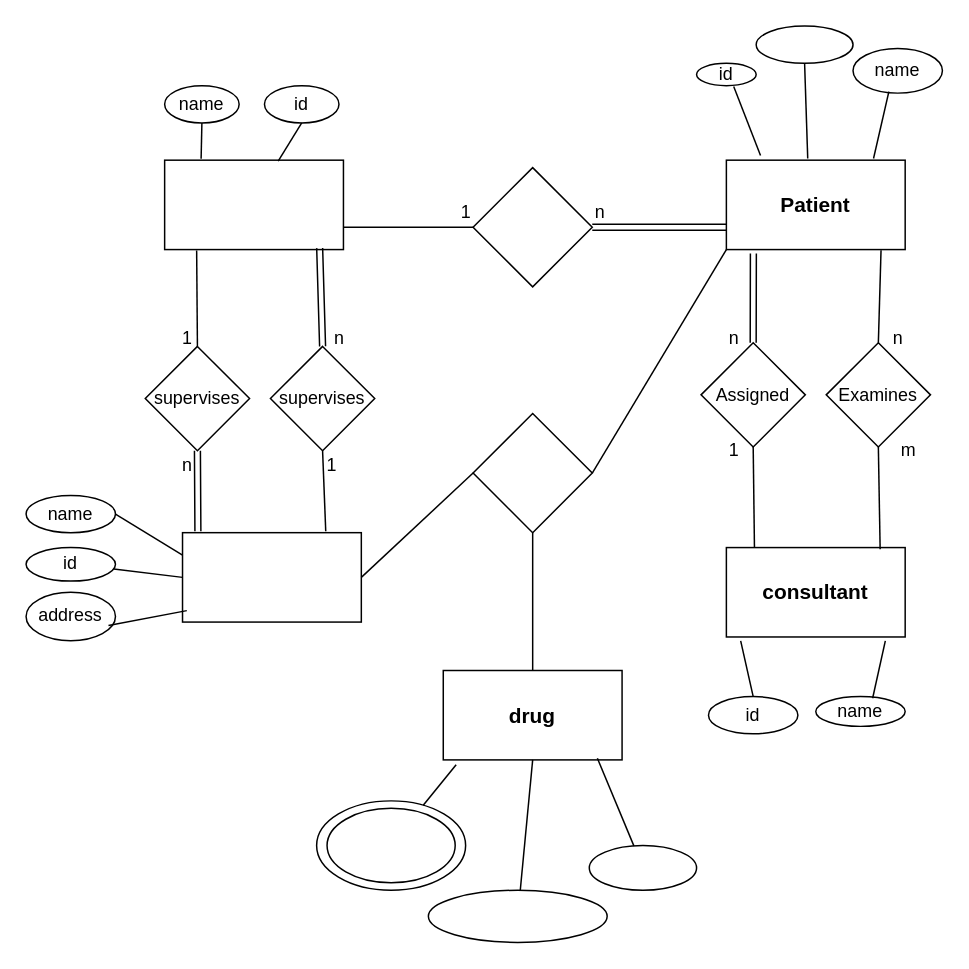
Image size: 969x969. Some labels were removed from this diagram. Each missing label, with the box of its shape:
birth: (755, 25, 853, 63)
brand name: (326, 807, 455, 883)
code: (588, 844, 697, 890)
gives: (472, 412, 592, 533)
host: (472, 166, 592, 287)
nurse: (181, 531, 361, 622)
recommended: (427, 889, 607, 942)
ward: (163, 159, 343, 250)
